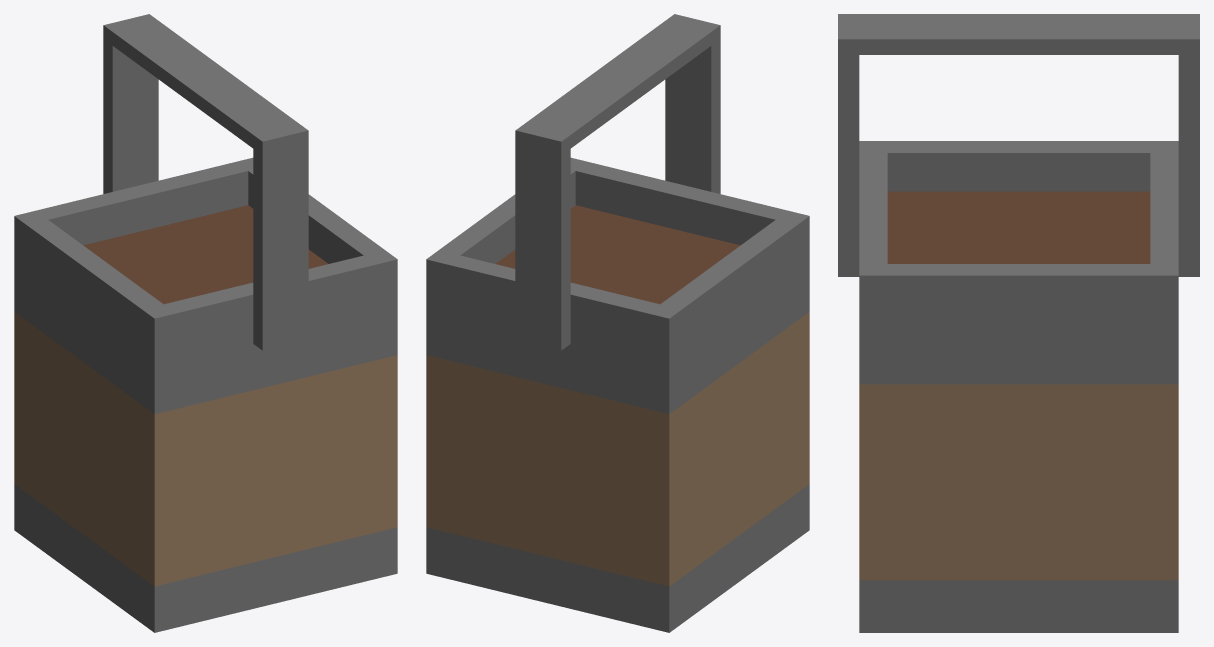
File: Paint Brown.gltf
3 renders of one model, left to right at view 1: azimuth 30°, elevation 25°; view 2: azimuth 150°, elevation 25°; view 3: azimuth 270°, elevation 25°, orthographic. The views are drawn at different scales.
Visible parts, largest first — view 1: Pain Can; view 2: Pain Can; view 3: Pain Can.
Boxes of the visible parts, x1=… form: Pain Can: x1=14, y1=14, x2=397, y2=632; Pain Can: x1=426, y1=14, x2=809, y2=632; Pain Can: x1=838, y1=14, x2=1199, y2=632.
Bounding box in the file's own units: 2 × 3.73 × 2.27.
